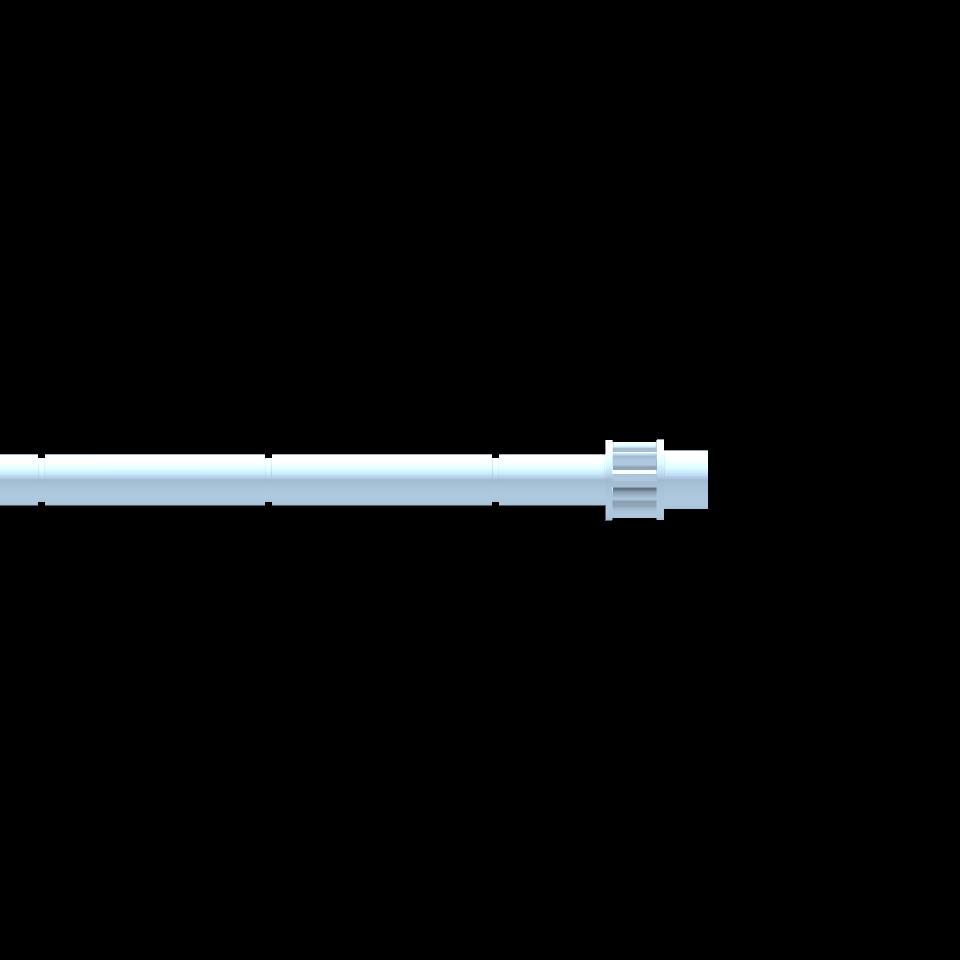Straight: (614, 443, 656, 519)
